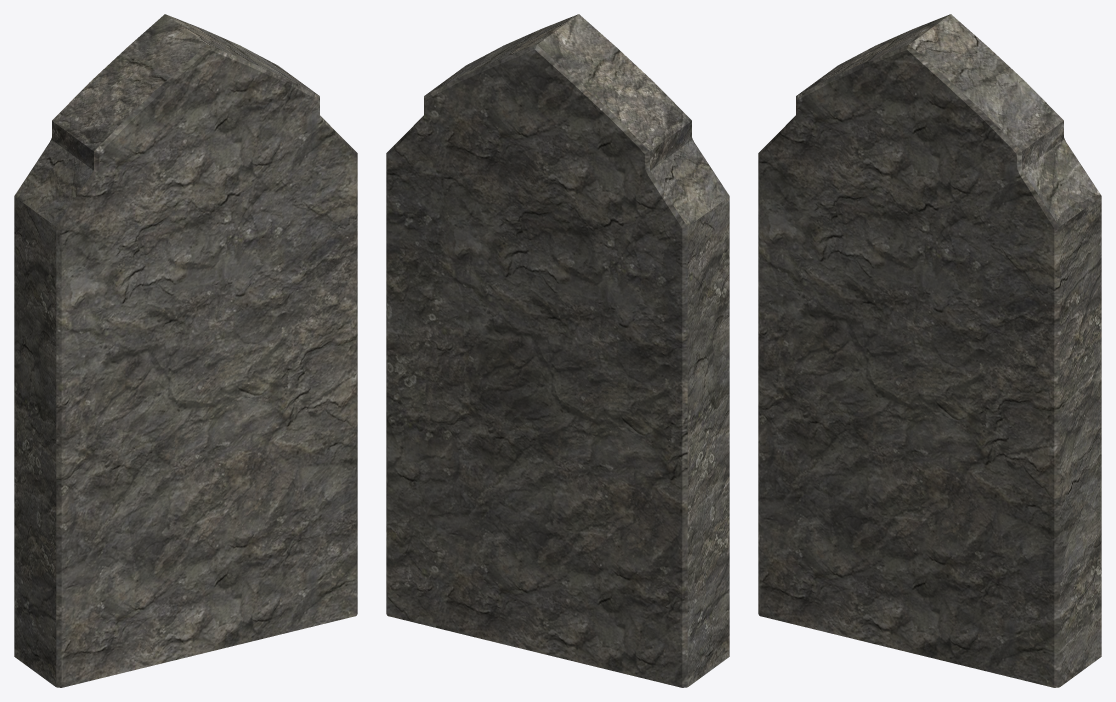
Rendered from Gravestones_Stone_05.fbx.
3 views of the same model, side by side, from view 1: azimuth 30°, elevation 25°; view 2: azimuth 150°, elevation 25°; view 3: azimuth 330°, elevation 25° (orthographic).
Parts seen in each view (by area): view 1: pCube7; view 2: pCube7; view 3: pCube7.
Boxes of the visible parts, <box> form: pCube7: <box>14,14,357,687</box>; pCube7: <box>386,14,729,687</box>; pCube7: <box>758,14,1101,687</box>.
Size of the model in its own units: 0.6091 by 1.17 by 0.1605.
